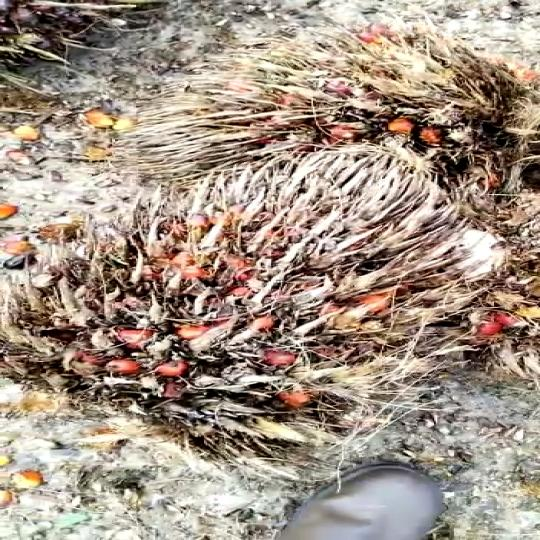terlalu masak: (0, 146, 506, 454)
